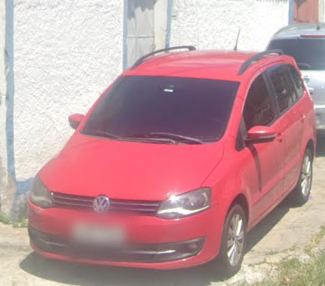car: (28, 47, 317, 275)
